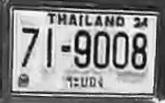0: (93, 30, 109, 68), (112, 31, 128, 68)
1: (46, 28, 52, 68)
7: (21, 27, 38, 66)
8: (130, 32, 146, 68)
9: (73, 30, 90, 68)
RYG: (63, 74, 106, 88)
